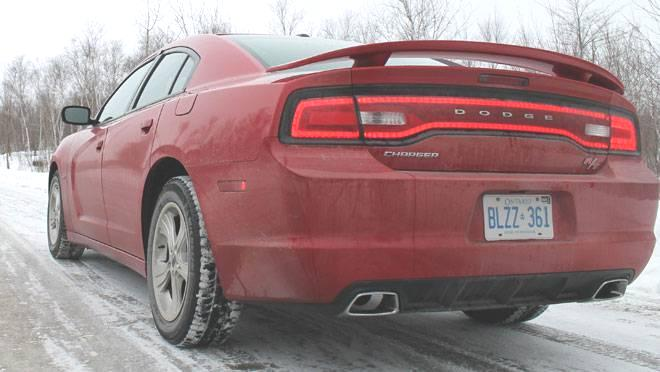dodge: (446, 102, 560, 132)
